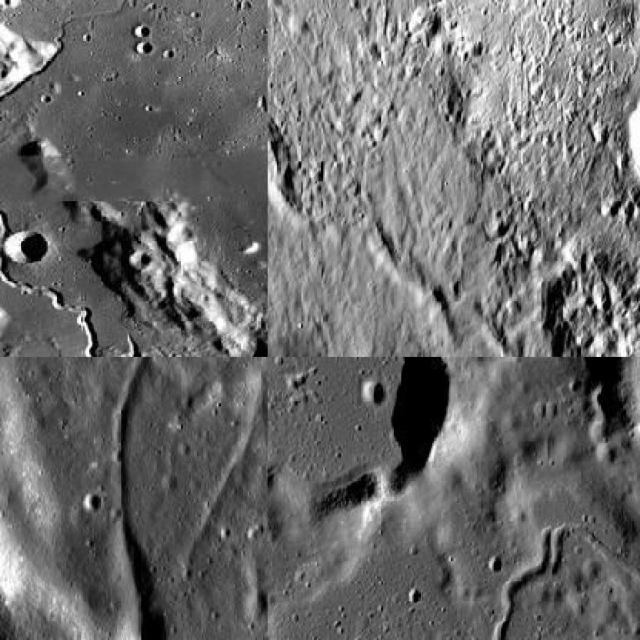rille: (267, 38, 538, 356), (0, 0, 152, 355), (267, 500, 638, 638), (111, 357, 266, 638)
